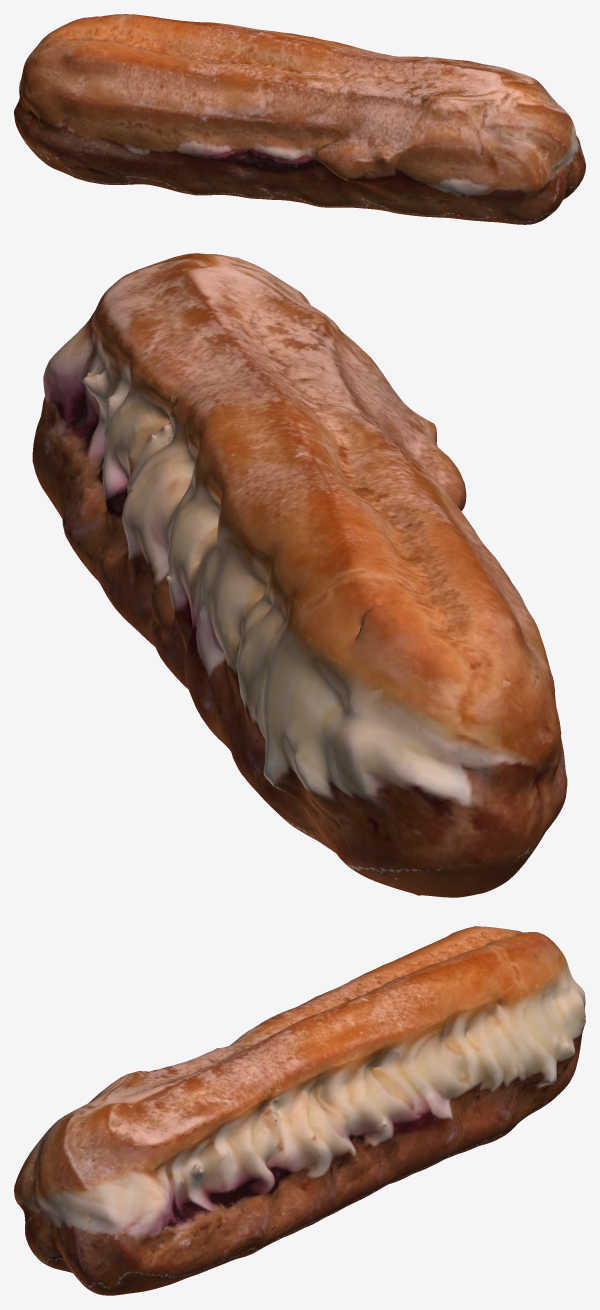
Rendered from eclaire_33760.obj.
3 views of the same model, one above another, from view 1: azimuth 30°, elevation 25°; view 2: azimuth 150°, elevation 25°; view 3: azimuth 270°, elevation 25° (orthographic). The views are drawn at different scales.
Bounding box in the file's own units: 93.84 × 31.58 × 91.29.
1 material, 1 textured.
